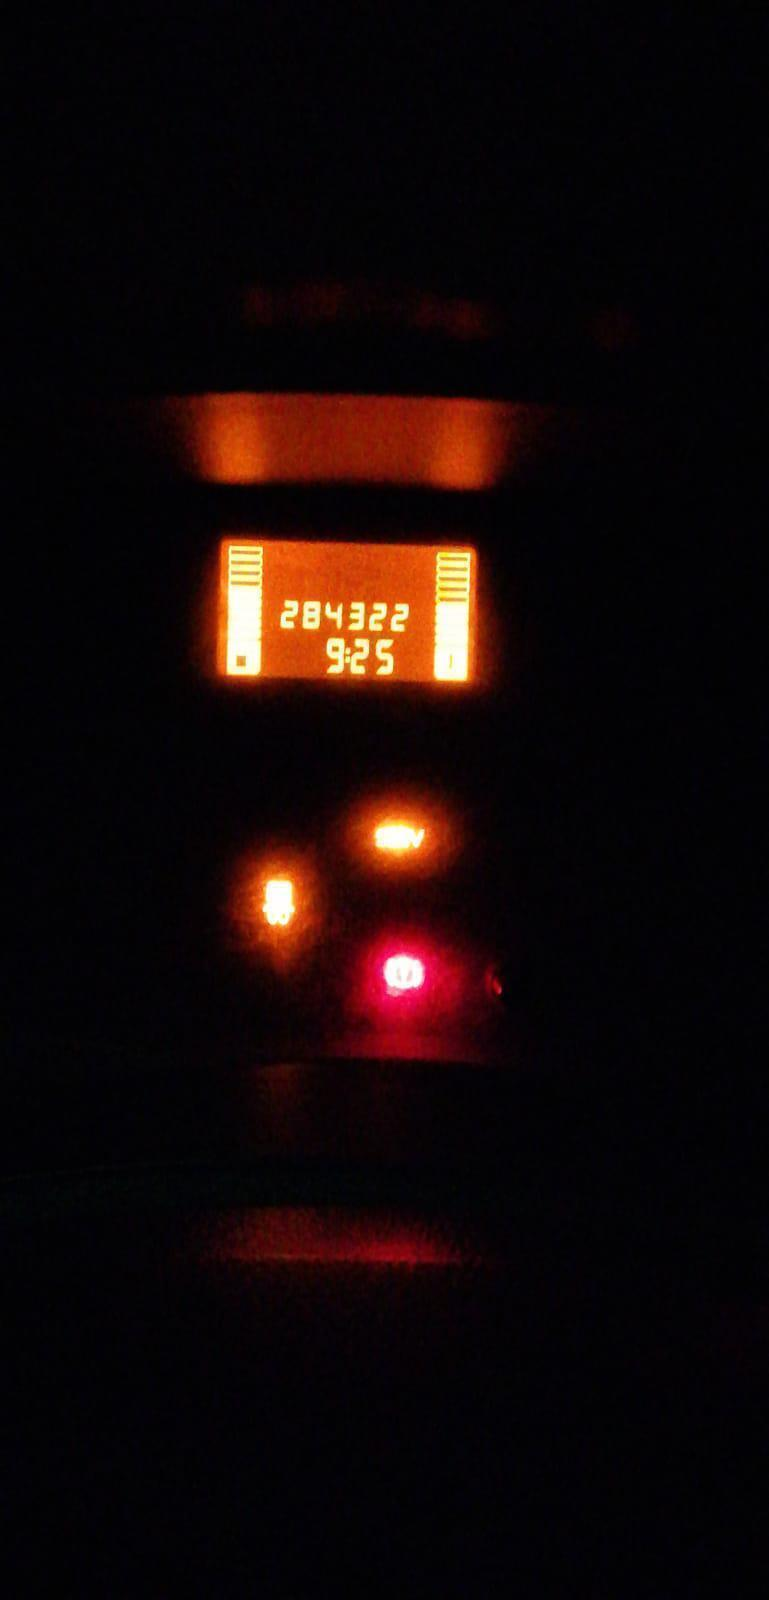2: (349, 637, 370, 674), (389, 602, 410, 632), (367, 601, 388, 631), (279, 599, 299, 629)
3: (347, 600, 366, 631)
4: (324, 600, 343, 630)
5: (374, 638, 394, 676)
8: (301, 600, 321, 630)
9: (325, 637, 344, 674)
X: (344, 646, 351, 663)
odometer: (212, 535, 479, 687)
